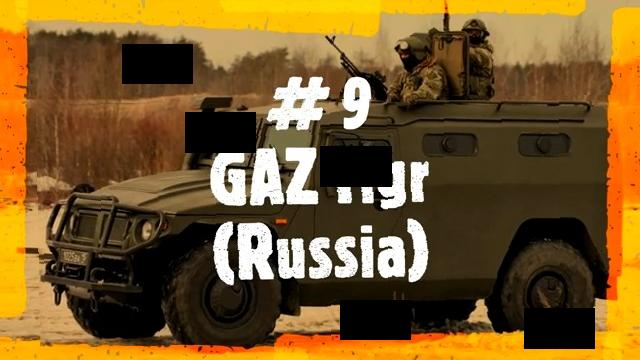MIL_HMMWV: (37, 97, 623, 345), (428, 19, 495, 100), (388, 36, 450, 105)
